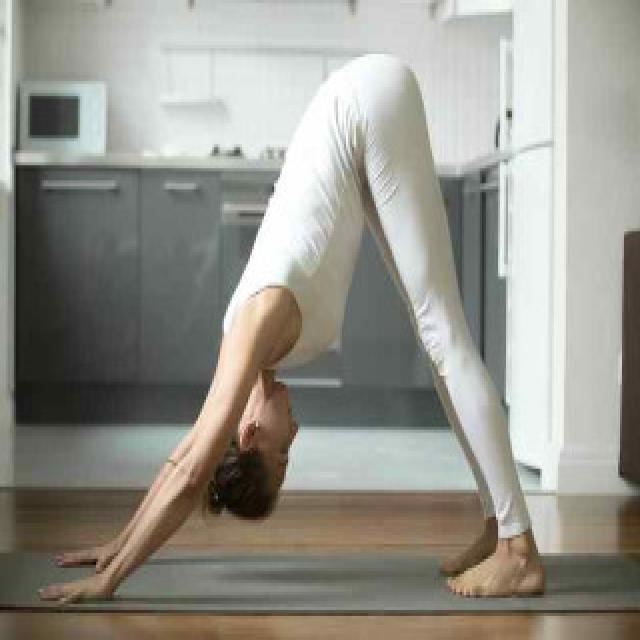yoga-pose downward: (45, 57, 551, 598)
